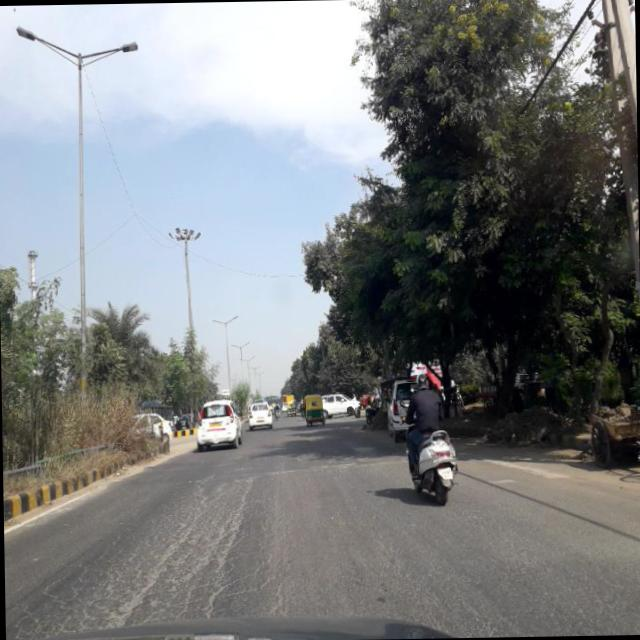crack: (51, 477, 284, 635)
